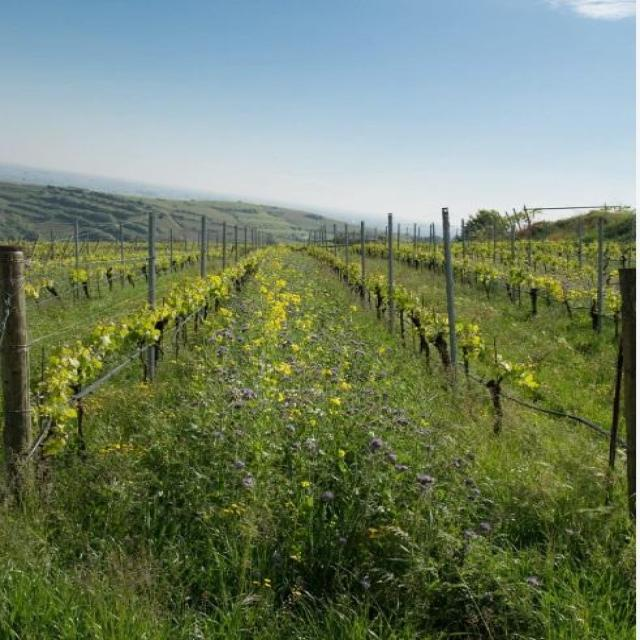row: (6, 251, 623, 565)
